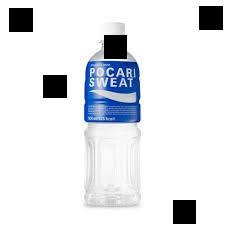pocarisweat: (70, 20, 147, 210)
